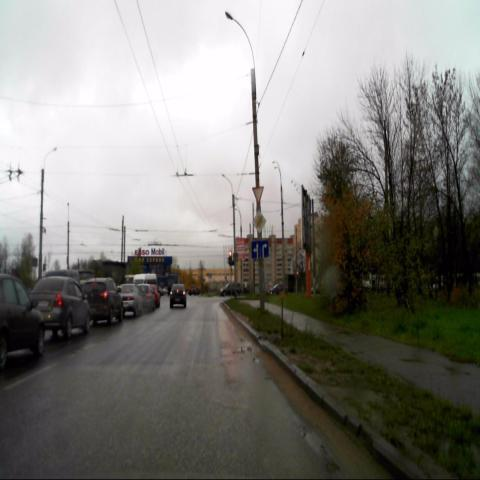2_2: (252, 209, 266, 234)
